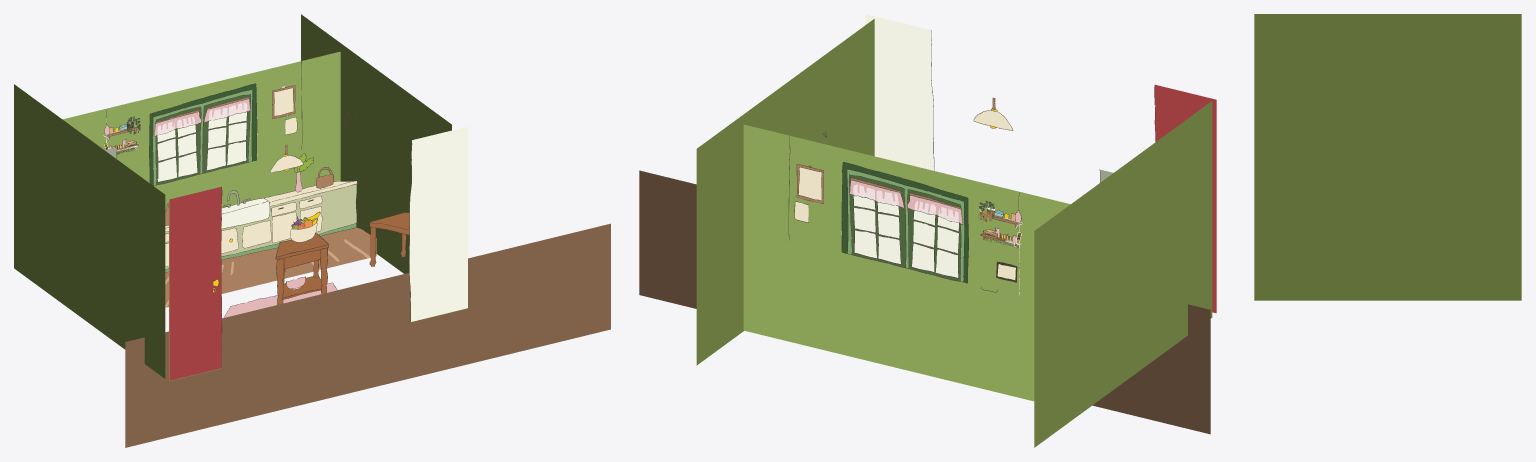
Rendered from kitchen.glb.
3 views of the same model, side by side, from view 1: azimuth 30°, elevation 25°; view 2: azimuth 150°, elevation 25°; view 3: azimuth 270°, elevation 25° (orthographic). The views are drawn at different scales.
Visible parts, largest first — view 1: Plane.001, Plane, n, Plane.002, n.292, n.293, n.398, n.499, n.134, n.676, n.136, n.133 (+5 smaller); view 2: n, Plane, Plane.002, Plane.001, n.292, n.293, n.134, n.136, n.133, n.135, n.169, n.129 (+1 smaller); view 3: Plane.002, Plane.
Part boxes in pixels (x1,y1,x2,y2): Plane.001: [125, 223, 610, 447]; Plane: [14, 84, 165, 378]; n: [63, 51, 340, 220]; Plane.002: [301, 14, 451, 273]; n.292: [409, 126, 467, 321]; n.293: [169, 186, 221, 380]; n.398: [165, 227, 376, 307]; n.499: [165, 184, 356, 268]; n.134: [149, 84, 256, 185]; n.676: [221, 198, 269, 228]; n.136: [202, 94, 250, 173]; n.133: [153, 90, 252, 185]; n: [743, 124, 1070, 401]; Plane: [1034, 101, 1212, 447]; Plane.002: [696, 19, 874, 365]; Plane.001: [639, 170, 1210, 434]; n.292: [865, 14, 933, 224]; n.293: [1155, 84, 1216, 312]; n.134: [842, 162, 968, 282]; n.136: [849, 175, 906, 267]; n.133: [847, 169, 964, 281]; n.135: [849, 174, 963, 282]; n.169: [908, 208, 960, 281]; n.129: [798, 167, 821, 200]; Plane.002: [1254, 137, 1521, 300]; Plane: [1254, 14, 1521, 137].
Size of what is drawn, in the model's own units: 7.18 by 3.73 by 4.01.
